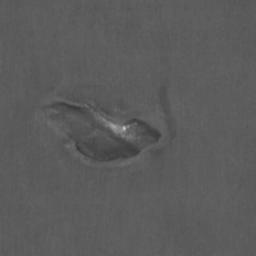Rolled pit: (48, 101, 161, 162), (159, 85, 176, 143)
